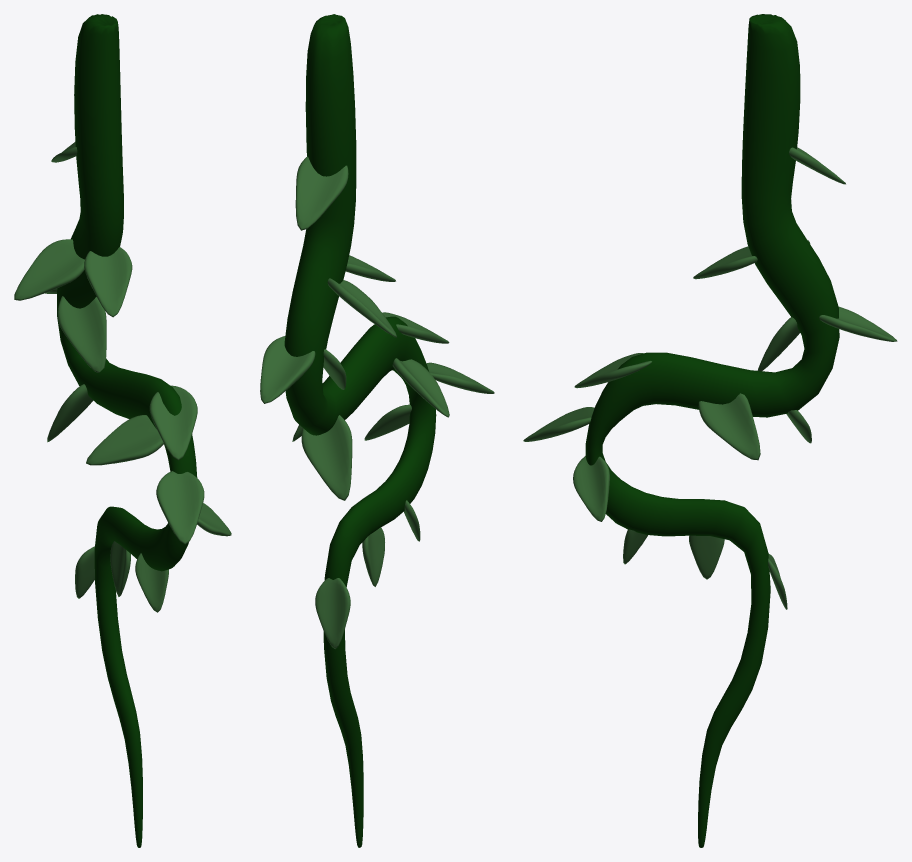
File: Vine_Uwrapped.fbx
The picture shows the model from 3 angles, left to right: view 1: azimuth 30°, elevation 25°; view 2: azimuth 150°, elevation 25°; view 3: azimuth 270°, elevation 25°; orthographic projection. The views are drawn at different scales.
Visible parts, largest first — view 1: pCube15; view 2: pCube15; view 3: pCube15.
Boxes of the visible parts, left/top/right/bottom form: pCube15: left=14, top=14, right=231, bottom=847; pCube15: left=260, top=14, right=494, bottom=847; pCube15: left=523, top=14, right=897, bottom=847.
Size of the model in its own units: 1.44 by 8.96 by 3.68.
